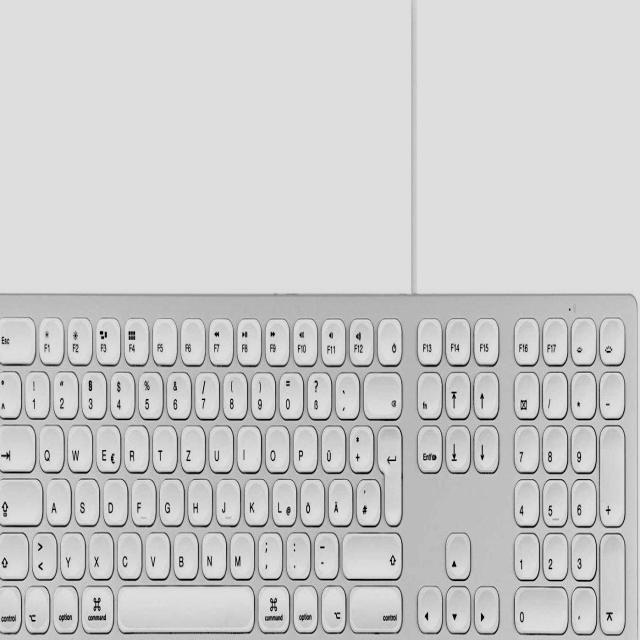0: (277, 369, 302, 417)
1: (24, 368, 49, 416)
2: (52, 368, 77, 416)
3: (80, 368, 106, 416)
4: (109, 368, 134, 416)
5: (137, 368, 162, 416)
6: (165, 369, 190, 417)
7: (194, 369, 219, 417)
8: (222, 369, 247, 417)
9: (250, 369, 275, 417)
a: (45, 475, 70, 523)
accent: (334, 368, 359, 416)
ae: (327, 475, 352, 523)
alt-left: (24, 584, 50, 633)
altgr-right: (321, 585, 347, 634)
b: (172, 529, 197, 577)
c: (116, 529, 141, 577)
caret: (0, 368, 20, 416)
comma: (257, 529, 282, 577)
d: (102, 475, 127, 524)
del: (362, 369, 402, 417)
e: (95, 421, 121, 470)
enter: (375, 422, 401, 524)
f: (130, 475, 155, 523)
g: (158, 475, 183, 523)
h: (186, 475, 211, 524)
hash: (355, 475, 380, 524)
i: (236, 422, 261, 470)
j: (215, 475, 240, 523)
k: (243, 475, 268, 524)
keyboard: (0, 288, 640, 640)
l: (271, 475, 296, 523)
less: (31, 528, 56, 577)
m: (229, 529, 254, 577)
minus: (313, 529, 338, 577)
n: (200, 529, 226, 577)
o: (264, 423, 289, 471)
oe: (299, 475, 324, 524)
p: (292, 422, 317, 470)
plus: (348, 422, 373, 470)
point: (285, 529, 310, 577)
q: (38, 422, 64, 470)
r: (123, 421, 148, 470)
s: (73, 475, 99, 523)
shift-left: (0, 528, 28, 578)
shift-lock: (0, 474, 42, 523)
shift-right: (341, 528, 402, 577)
space: (116, 581, 254, 632)
ss: (306, 369, 331, 417)
strg-left: (1, 582, 21, 633)
strg-right: (348, 581, 404, 632)
t: (151, 421, 176, 470)
tab: (0, 421, 35, 470)
u: (208, 422, 233, 470)
ue: (320, 422, 345, 470)
v: (144, 529, 169, 577)
w: (66, 421, 91, 470)
x: (88, 529, 113, 577)
y: (59, 529, 84, 577)
z: (179, 422, 204, 470)
